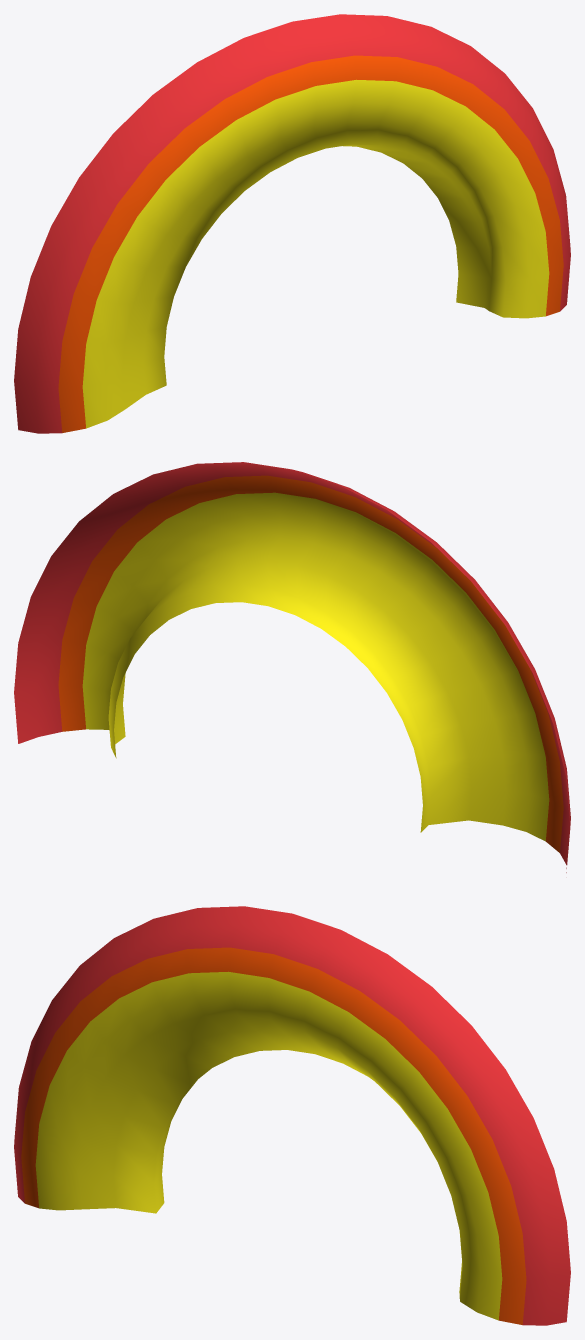
The model's file is arcoAmarelo.fbx.
The picture shows the model from 3 angles, top to bottom: view 1: azimuth 30°, elevation 25°; view 2: azimuth 150°, elevation 25°; view 3: azimuth 330°, elevation 25°; orthographic projection.
Visible parts, largest first — view 1: cinza; view 2: cinza; view 3: cinza.
Part boxes in pixels (x1=…): cinza: x1=14, y1=14, x2=570, y2=433; cinza: x1=14, y1=462, x2=570, y2=872; cinza: x1=14, y1=906, x2=570, y2=1325.
Bounding box in the file's own units: 6.08 × 3.57 × 0.5824.
